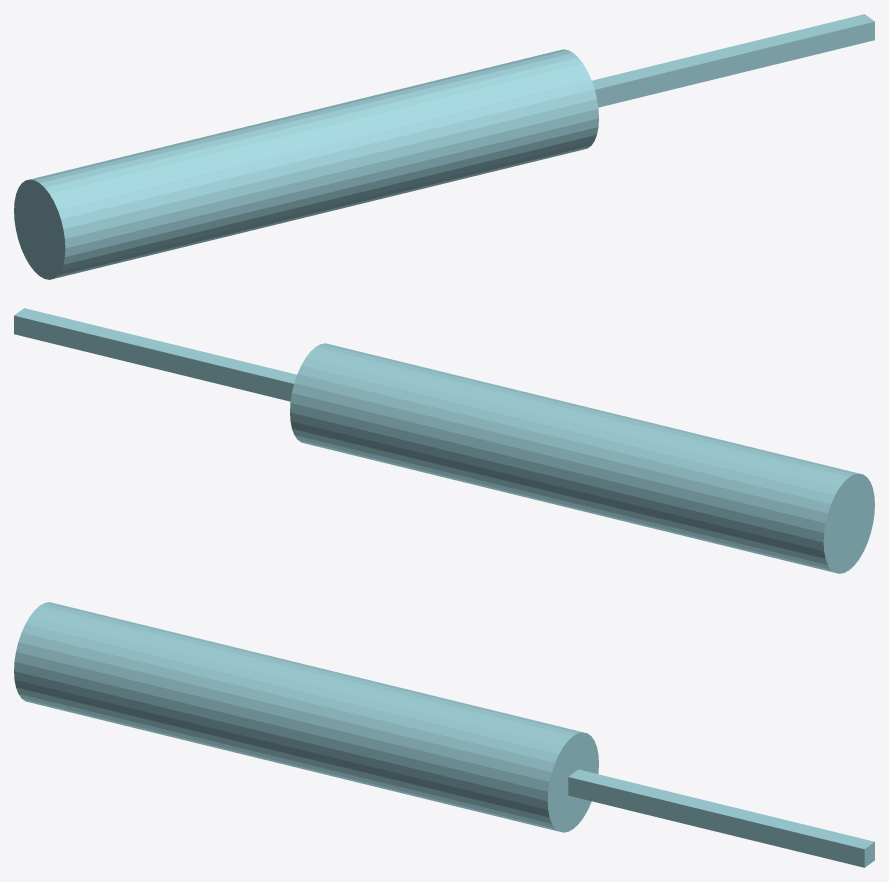
Rendered from cylindrical_screwdriver.obj.
3 views of the same model, one above another, from view 1: azimuth 30°, elevation 25°; view 2: azimuth 150°, elevation 25°; view 3: azimuth 330°, elevation 25° (orthographic).
Size of the model in its own units: 0.28 by 0.03 by 0.03.
